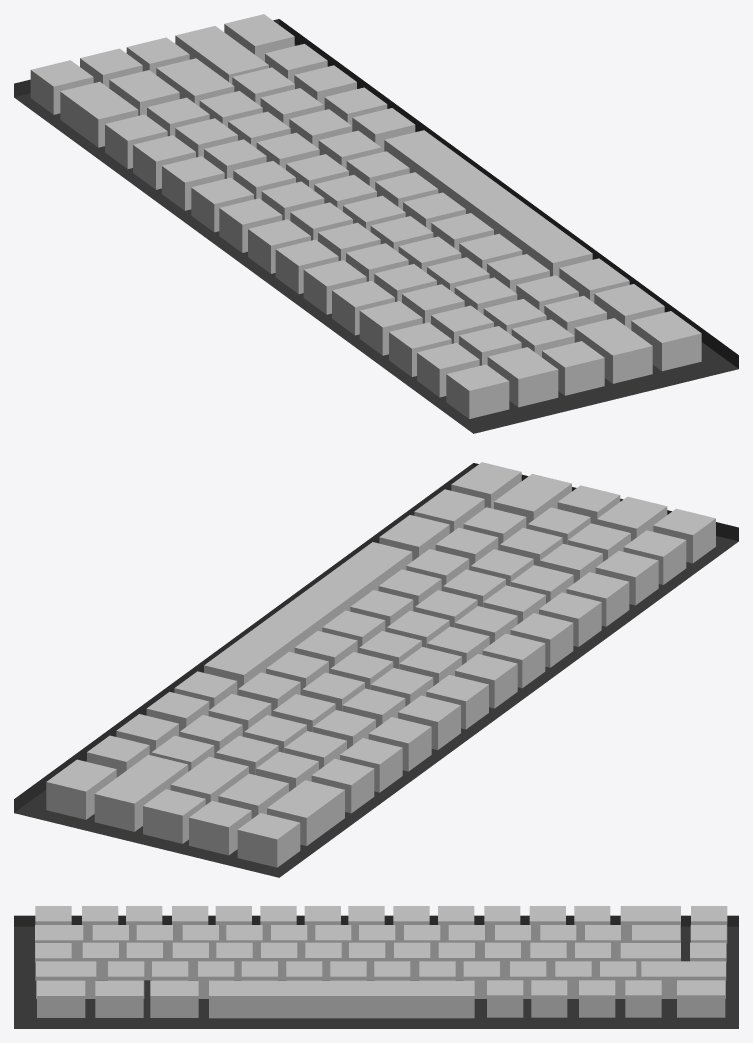
The model's file is keyboard2.fbx.
The picture shows the model from 3 angles, top to bottom: view 1: azimuth 30°, elevation 25°; view 2: azimuth 150°, elevation 25°; view 3: azimuth 270°, elevation 25°; orthographic projection. The views are drawn at different scales.
Visible parts, largest first — view 1: Cube.071; view 2: Cube.071; view 3: Cube.071.
Part boxes in pixels (x1,y1,x2,y2): Cube.071: [14, 14, 738, 433]; Cube.071: [14, 462, 738, 877]; Cube.071: [14, 906, 738, 1028].
Size of the model in its own units: 200 by 22.14 by 600.
